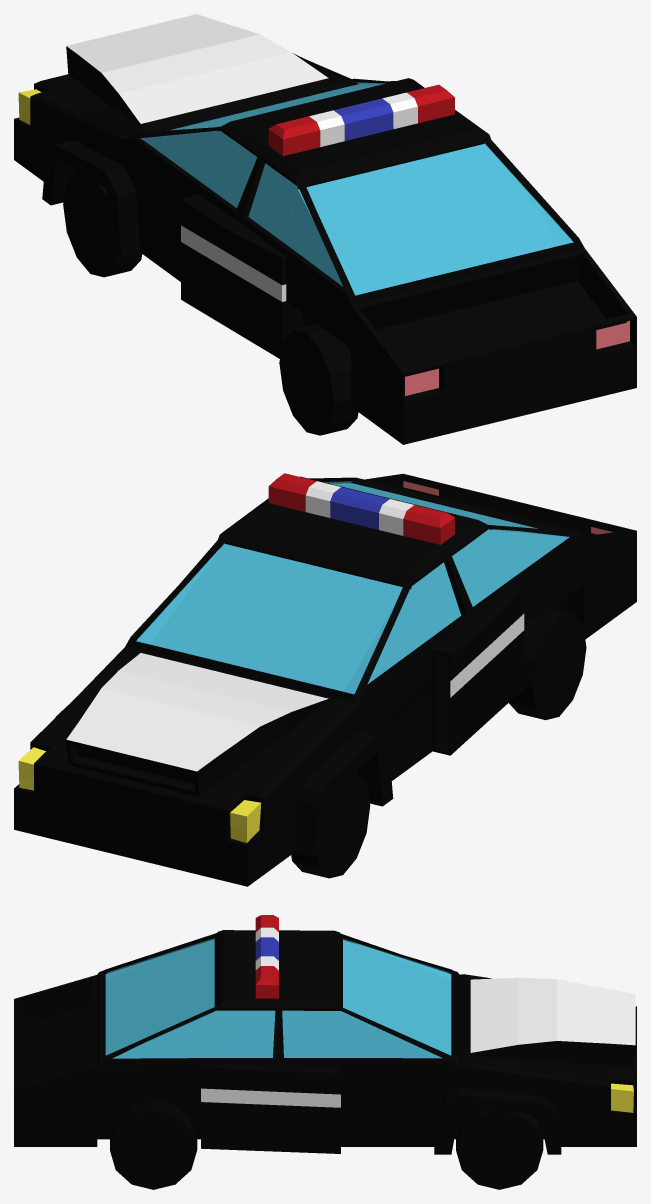
Rendered from PoliceCar 1.fbx.
3 views of the same model, one above another, from view 1: azimuth 30°, elevation 25°; view 2: azimuth 150°, elevation 25°; view 3: azimuth 270°, elevation 25° (orthographic). The views are drawn at different scales.
Visible parts, largest first — view 1: Police+; view 2: Police+; view 3: Police+.
Part boxes in pixels (x1,y1,x2,y2): Police+: [14, 14, 636, 444]; Police+: [14, 473, 636, 886]; Police+: [14, 915, 636, 1189].
Bounding box in the file's own units: 140 × 344 × 118.
2 materials, 2 textured.
